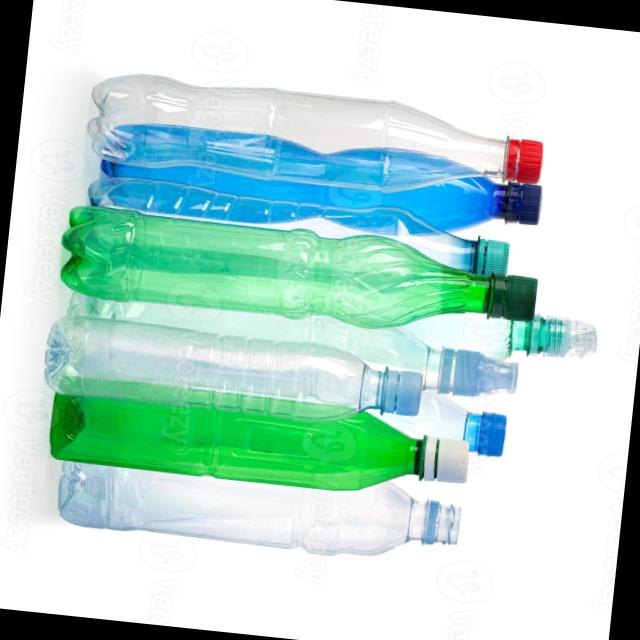plastic_bottle: (53, 200, 549, 333), (96, 67, 552, 200), (34, 380, 485, 502), (91, 122, 557, 240), (39, 457, 483, 575), (23, 317, 428, 427)
